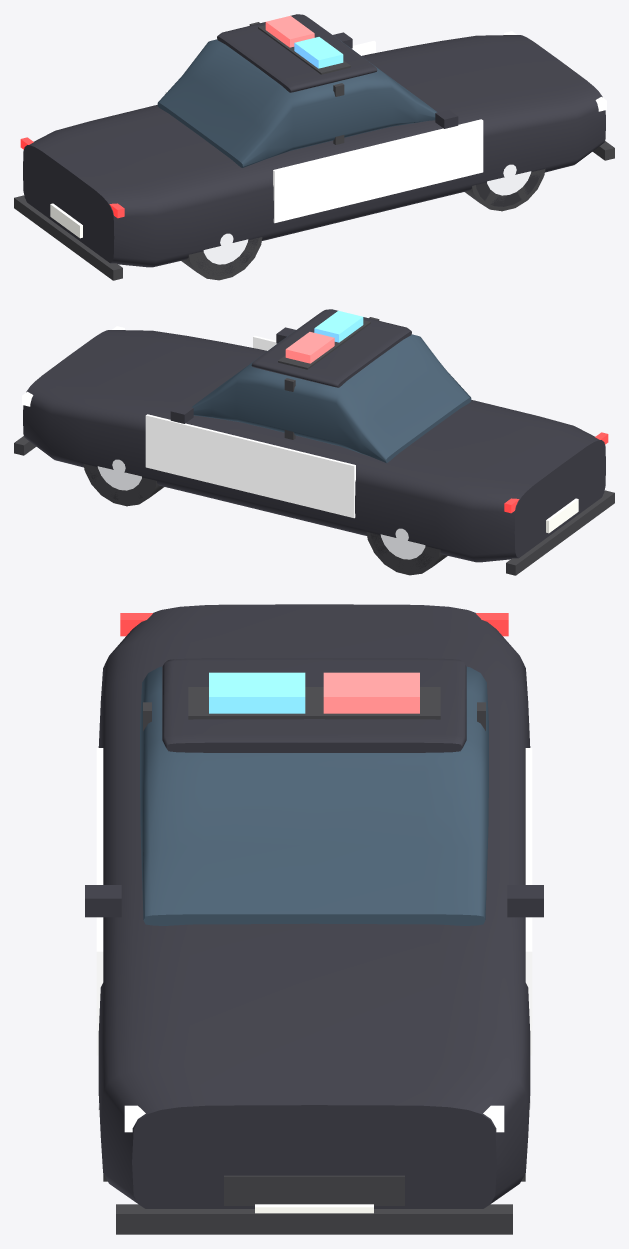
Rendered from car-police.glb.
3 renders of one model, top to bottom at view 1: azimuth 30°, elevation 25°; view 2: azimuth 150°, elevation 25°; view 3: azimuth 270°, elevation 25°, orthographic. The views are drawn at different scales.
Parts seen in each view (by area): view 1: body, wheelFR, wheelRR; view 2: body, wheelRL, wheelFL; view 3: body.
Part boxes in pixels (bbox=[...]): body: bbox=[14, 14, 614, 280]; wheelFR: bbox=[476, 164, 540, 206]; wheelRR: bbox=[196, 233, 258, 275]; body: bbox=[14, 309, 614, 575]; wheelRL: bbox=[370, 528, 433, 568]; wheelFL: bbox=[90, 459, 142, 499]; body: bbox=[85, 604, 543, 1234].
Bounding box in the file's own units: 5.05 × 1.64 × 2.
